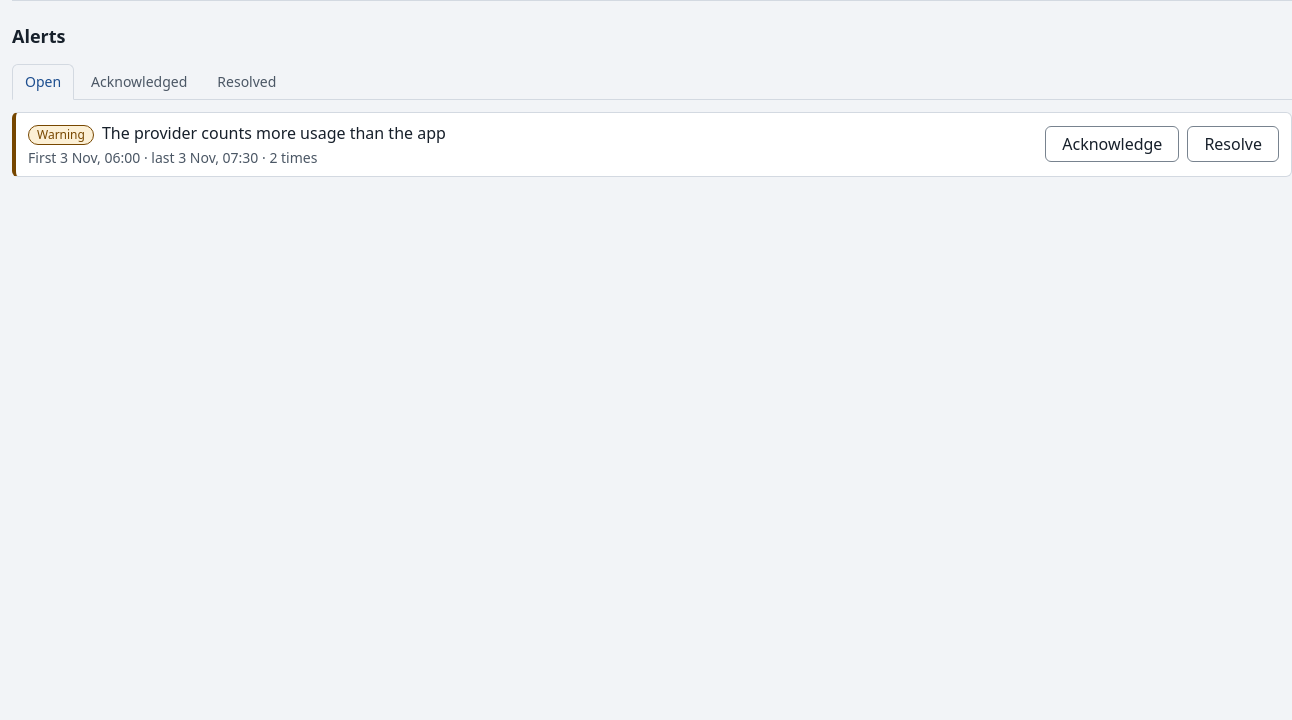
Test case: AlertsList › Ack moves an alert out of the open tab
Click the button "Acknowledge".
click(1112, 144)  # box [1045,126,1179,162]
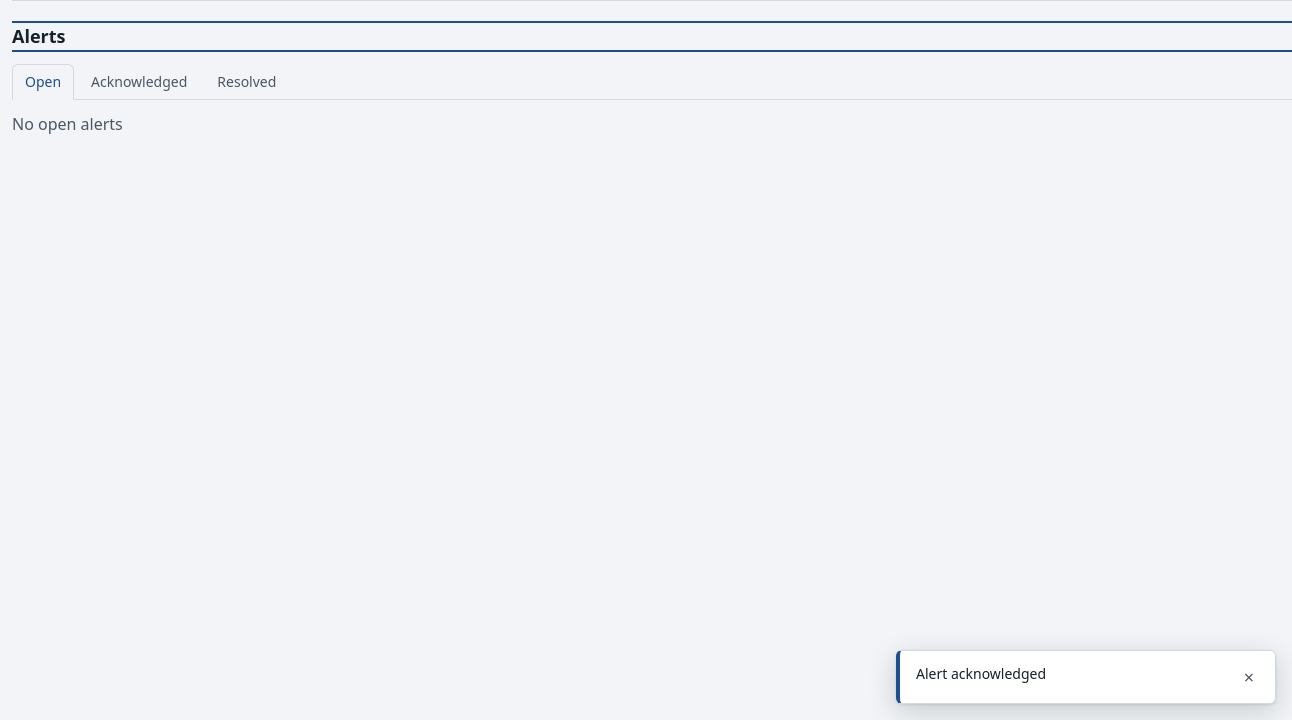
Now the text "No open alerts" is shown, box [12,112,123,134]
Now the text "Alert acknowledged" is shown, box [916,664,1046,683]
Click the tab "Acknowledged".
click(139, 82)  # box [78,64,200,100]
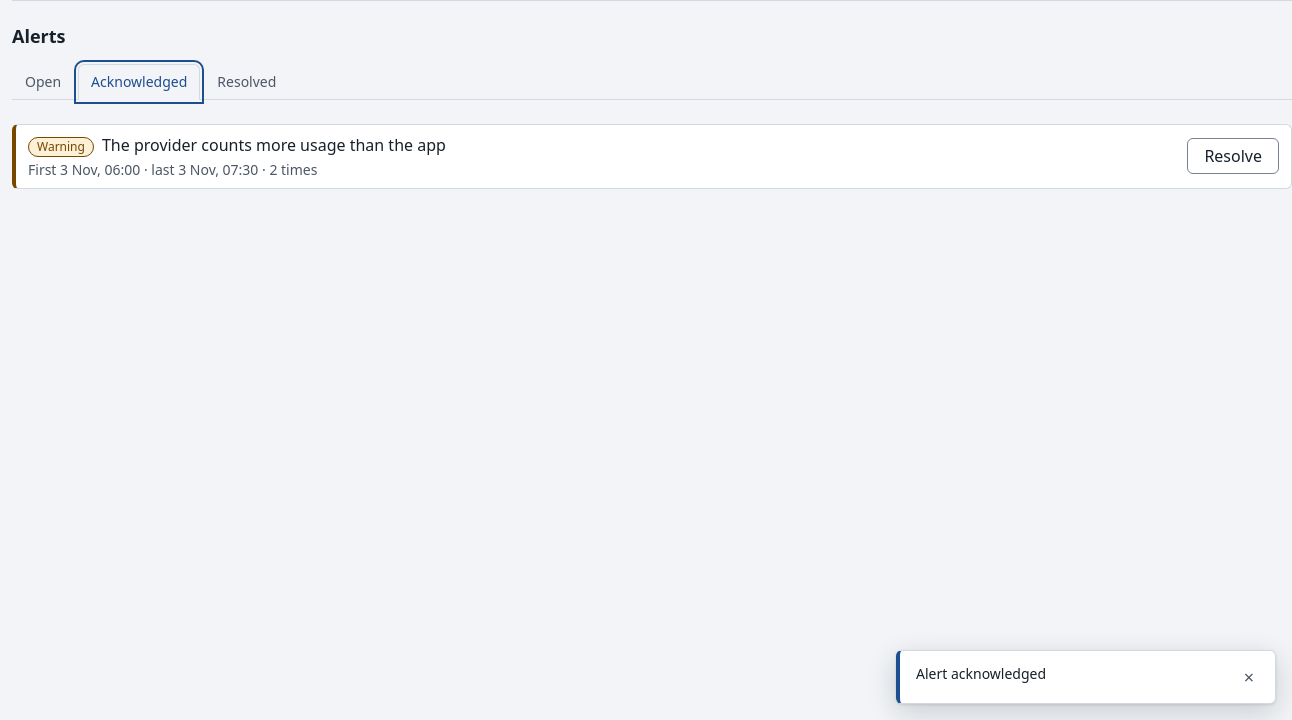
Now the text "The provider counts more usage than the app" is shown, box [102,132,446,156]
